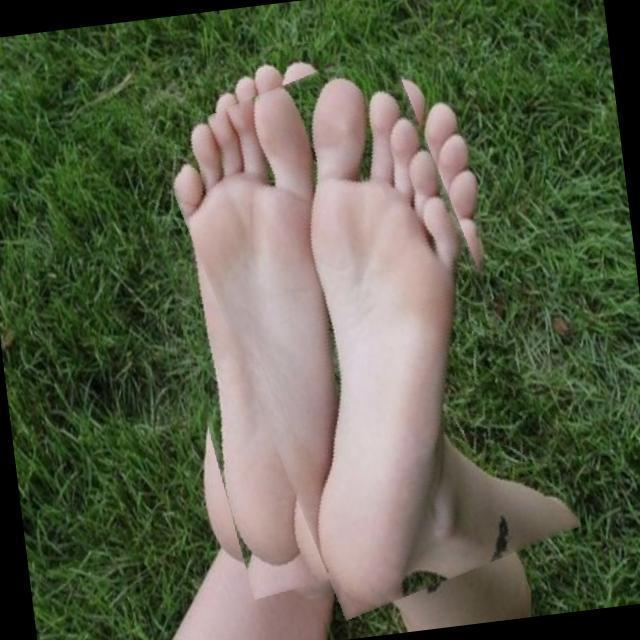No_Shoes: (298, 99, 467, 609), (177, 79, 323, 554)
